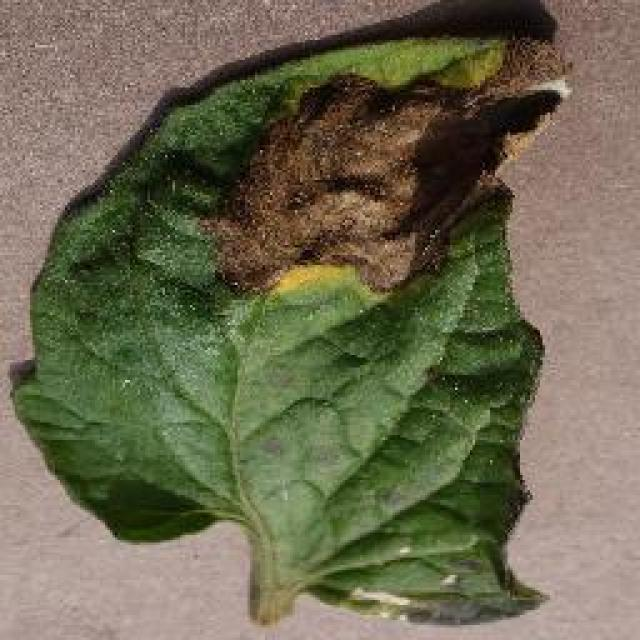Tomato Late Blight: (187, 10, 568, 317)
